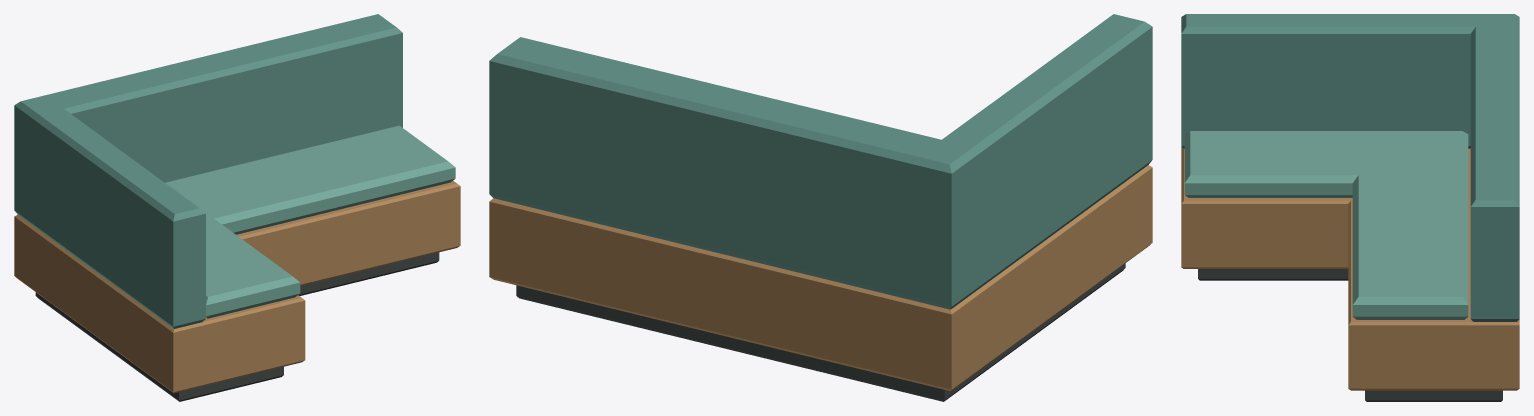
3 renders of one model, left to right at view 1: azimuth 30°, elevation 25°; view 2: azimuth 150°, elevation 25°; view 3: azimuth 270°, elevation 25°, orthographic. The views are drawn at different scales.
Parts seen in each view (by area): view 1: ContinuousTurningLBack, ContinuousLFoundation, ContinuousConcaveLSeatCushion, RecessedContinuousLPlinth; view 2: ContinuousTurningLBack, ContinuousLFoundation, RecessedContinuousLPlinth; view 3: ContinuousTurningLBack, ContinuousConcaveLSeatCushion, ContinuousLFoundation, RecessedContinuousLPlinth.
Boxes of the visible parts, left/top/right/bottom form: ContinuousTurningLBack: left=14, top=14, right=402, bottom=328; ContinuousLFoundation: left=14, top=181, right=460, bottom=393; ContinuousConcaveLSeatCushion: left=165, top=125, right=455, bottom=318; RecessedContinuousLPlinth: left=35, top=252, right=439, bottom=401; ContinuousTurningLBack: left=489, top=14, right=1152, bottom=309; ContinuousLFoundation: left=489, top=165, right=1152, bottom=390; RecessedContinuousLPlinth: left=516, top=263, right=1125, bottom=401; ContinuousTurningLBack: left=1181, top=14, right=1519, bottom=321; ContinuousConcaveLSeatCushion: left=1184, top=131, right=1468, bottom=319; ContinuousLFoundation: left=1181, top=146, right=1519, bottom=390; RecessedContinuousLPlinth: left=1198, top=269, right=1502, bottom=401.
Bounding box in the file's own units: 2.02 × 1.03 × 1.52.
